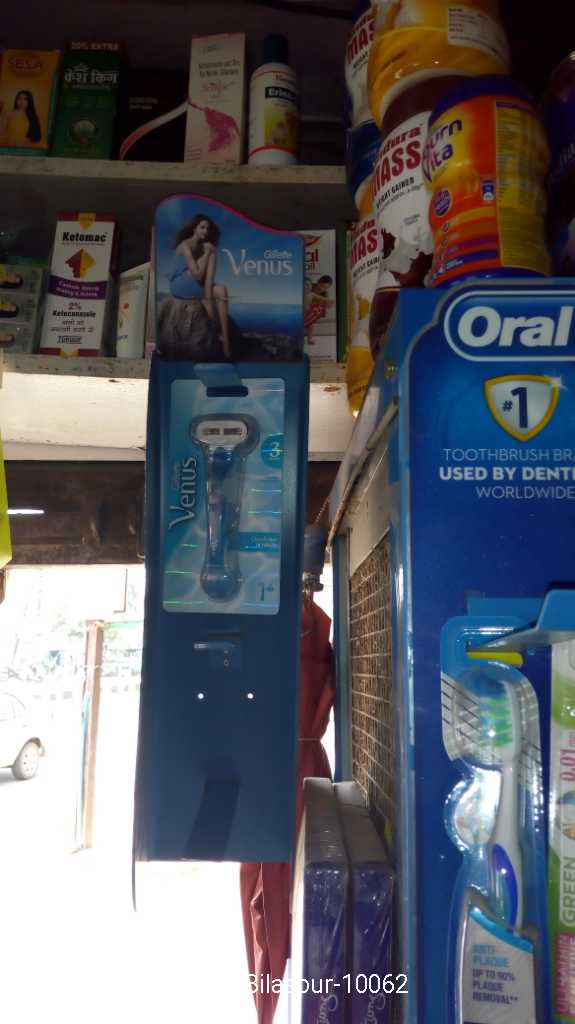beauty: (158, 388, 286, 613)
pharmacy: (436, 660, 538, 1024)
